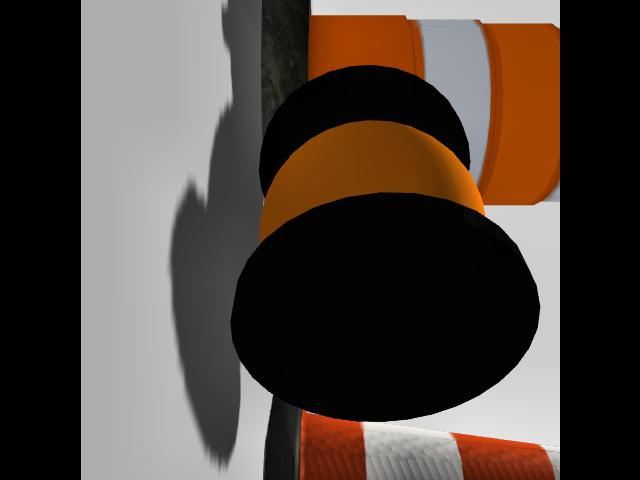target: (230, 64, 540, 424)
